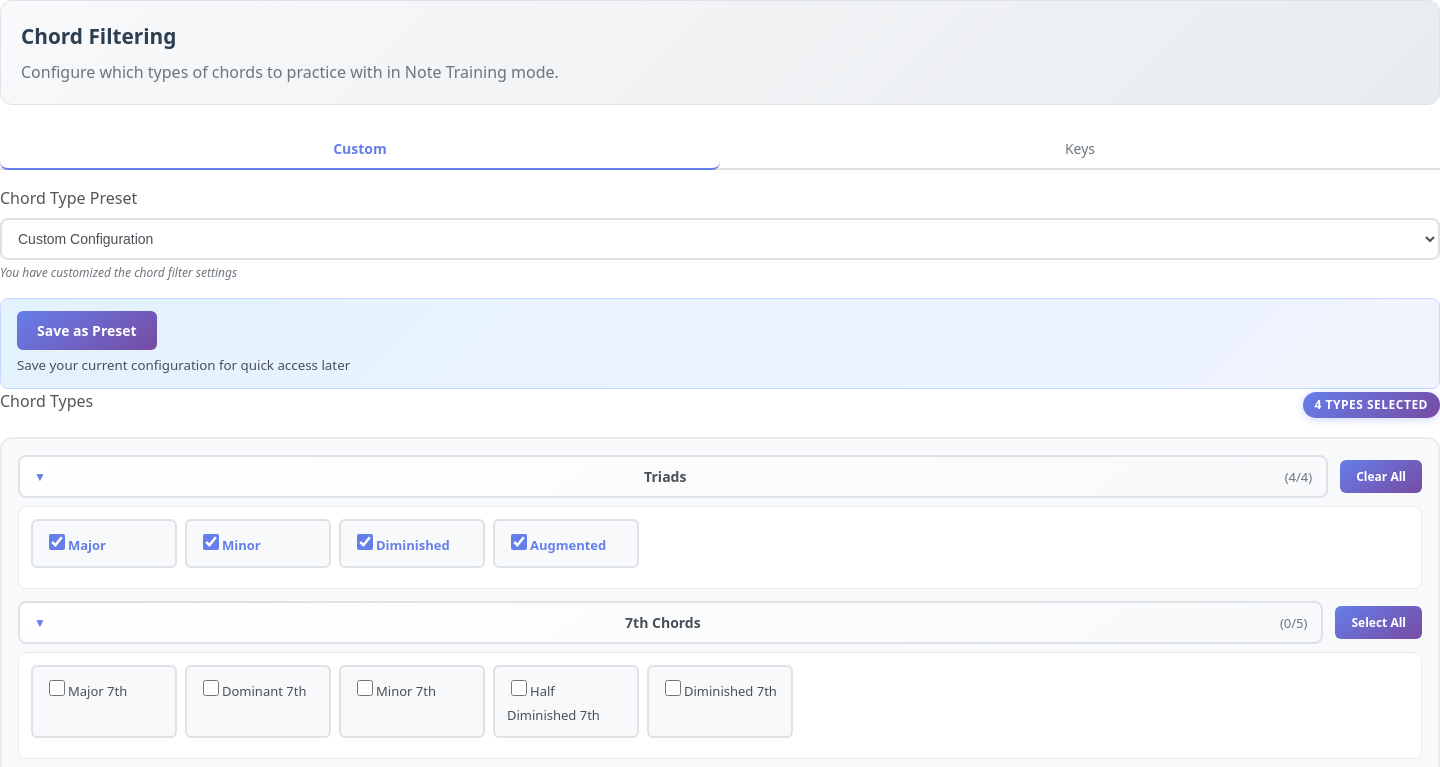
Chord Filter System Integration Tests › should switch to Keys subtab and show key filter controls
# Click on Keys subtab
What coordinates should you click on to do the following:
click the button "Keys"
I would click on:
 (1080, 150)
Its box is [720,129,1439,170].
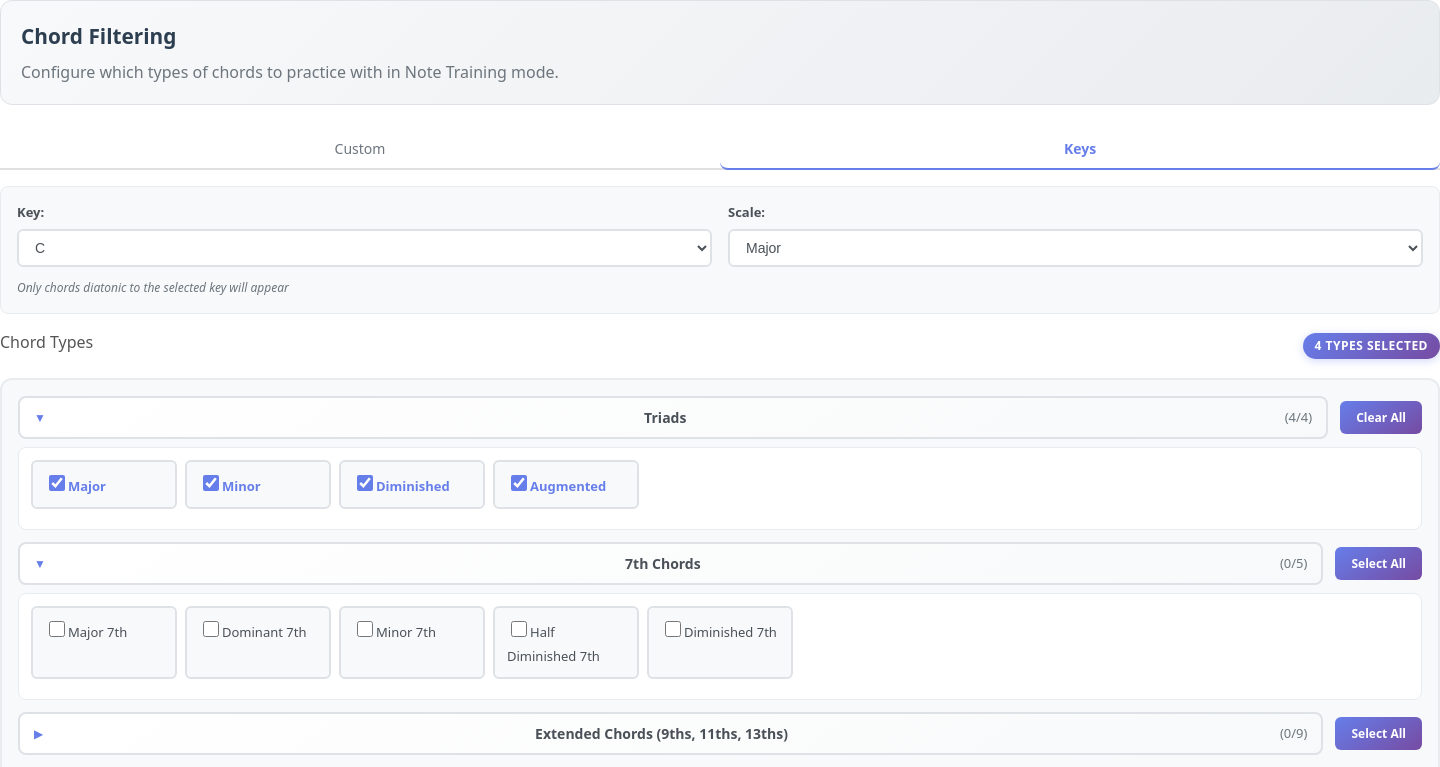
Result: the dropdown labelled "Key:" is shown at [17,229,712,267]
Result: the dropdown labelled "Scale:" is shown at [728,229,1423,267]
Result: the text "Only chords diatonic to the selected key will appear" is shown at [17,279,289,296]
